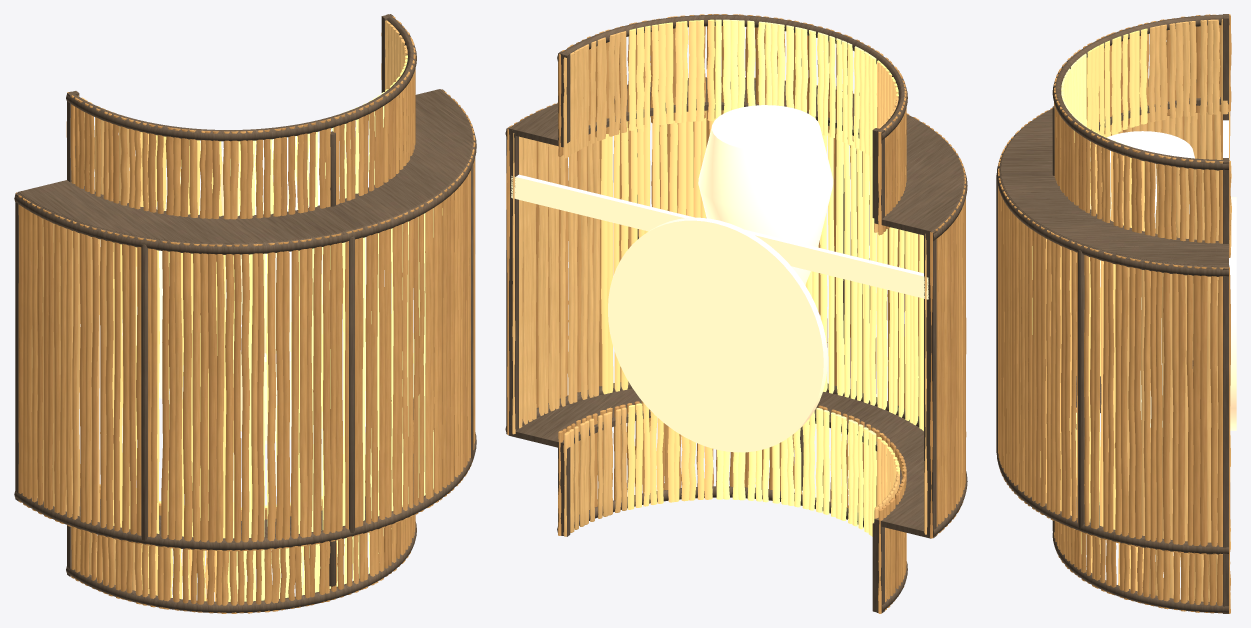
Rendered from woven-hemp-rope-wall-sconce_4fa055dc-dc12-4faa-92f0-9f138710f288.glb.
3 views of the same model, side by side, from view 1: azimuth 30°, elevation 25°; view 2: azimuth 150°, elevation 25°; view 3: azimuth 270°, elevation 25° (orthographic). The views are drawn at different scales.
Visible parts, largest first — view 1: Mid_strands_0, Mid_strands_1, Mid_strands_2, Mid_TopLedge, Top_strands_2, Top_strands_1, MidIn_strands_0, Bot_strands_1, MidIn_strands_1, Mid_TopRing, Bot_strands_0, MidIn_strands_2 (+18 smaller); view 2: WallPlate, MidIn_strands_2, MidIn_strands_0, Bulb_Bulb, TopIn_strands_0, BotIn_strands_0, MidIn_strands_1, TopIn_strands_1, MountStrap, Mid_TopLedge, Mid_strands_0, Mid_BotLedge (+21 smaller); view 3: Mid_strands_0, Mid_strands_1, Mid_strands_2, Mid_TopLedge, TopIn_strands_2, MidIn_strands_2, Top_strands_1, TopIn_strands_1, Top_strands_0, MidIn_strands_1, Top_strands_2, Bot_strands_1 (+16 smaller).
Boxes of the visible parts, x1,y1,x2,y2 form: Mid_strands_0: [22, 89, 475, 551]; Mid_strands_1: [32, 91, 475, 551]; Mid_strands_2: [15, 98, 473, 551]; Mid_TopLedge: [18, 89, 472, 243]; Top_strands_2: [78, 54, 415, 218]; Top_strands_1: [66, 16, 414, 219]; MidIn_strands_0: [233, 208, 433, 538]; Bot_strands_1: [71, 395, 414, 613]; MidIn_strands_1: [112, 208, 442, 538]; Mid_TopRing: [14, 89, 476, 254]; Bot_strands_0: [80, 429, 413, 613]; MidIn_strands_2: [31, 218, 106, 523]; WallPlate: [608, 217, 827, 452]; MidIn_strands_2: [512, 133, 927, 534]; MidIn_strands_0: [805, 131, 923, 430]; Bulb_Bulb: [698, 105, 833, 284]; TopIn_strands_0: [715, 19, 876, 157]; BotIn_strands_0: [716, 408, 876, 536]; MidIn_strands_1: [601, 111, 715, 394]; TopIn_strands_1: [628, 19, 898, 130]; MountStrap: [511, 174, 928, 299]; Mid_TopLedge: [509, 77, 963, 235]; Mid_strands_0: [506, 77, 966, 533]; Mid_BotLedge: [509, 388, 930, 538]; Mid_strands_0: [998, 107, 1230, 554]; Mid_strands_1: [1003, 110, 1223, 554]; Mid_strands_2: [998, 75, 1230, 554]; Mid_TopLedge: [1000, 79, 1228, 266]; TopIn_strands_2: [1148, 19, 1231, 254]; MidIn_strands_2: [1118, 111, 1230, 549]; Top_strands_1: [1054, 14, 1231, 243]; TopIn_strands_1: [1087, 28, 1147, 231]; Top_strands_0: [1064, 14, 1230, 257]; MidIn_strands_1: [1040, 130, 1118, 529]; Top_strands_2: [1054, 14, 1210, 233]; Bot_strands_1: [1054, 407, 1230, 613].
Size of the model in its own units: 0.2322 by 0.2492 by 0.1201.
Materials: 9 (5 with a texture image).
